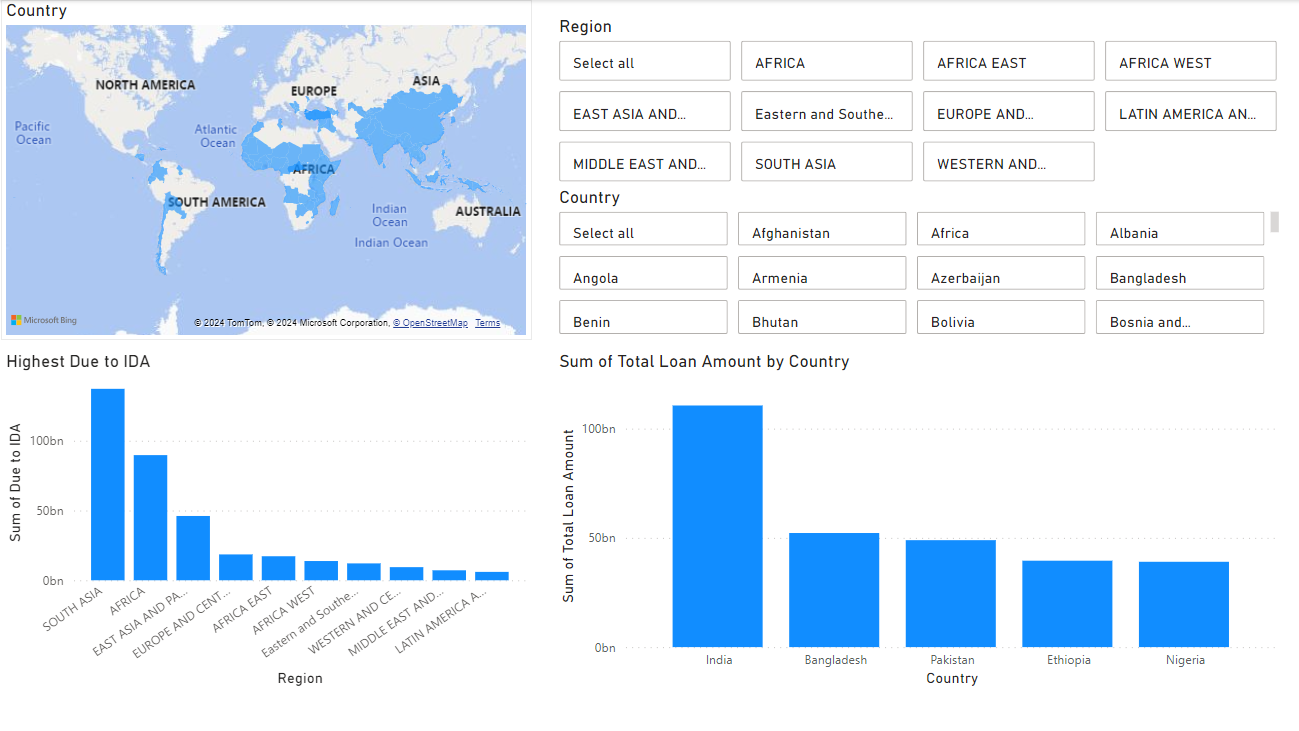

The page's visual inventory and layout, read from the dashboard file:
{"tool":"powerbi","page":{"name":"Page 1","canvas":[1280,720],"ordinal":2},"visuals":[{"type":"filledMap","fields":{"Category":["cleaned_dataset.Country"]},"box":[10.1,0,515.7,330.9],"z":0},{"type":"advancedSlicerVisual","fields":{"Values":["cleaned_dataset.Country"]},"box":[548,182,710,148],"z":1},{"type":"advancedSlicerVisual","fields":{"Values":["cleaned_dataset.Region"]},"box":[548,16,710,166],"z":2},{"type":"columnChart","title":"Highest Due to IDA","fields":{"Y":["Sum(cleaned_dataset.Due to IDA)"],"Category":["cleaned_dataset.Region"]},"box":[10,341,516,331],"z":3},{"type":"columnChart","fields":{"Y":["Sum(cleaned_dataset.Total Loan Amount)"],"Category":["cleaned_dataset.Country"]},"box":[548,341,710,331],"z":4}]}

Visuals, with their boxes in screenshot pixels (x1, y1, x2, y2), scaled from the page's 1280x720 canvas onto the 1299x731 screenshot:
filledMap - cleaned_dataset.Country: rect(10, 0, 534, 336)
advancedSlicerVisual - cleaned_dataset.Country: rect(556, 185, 1277, 335)
advancedSlicerVisual - cleaned_dataset.Region: rect(556, 16, 1277, 185)
"Highest Due to IDA" columnChart: rect(10, 346, 534, 682)
columnChart - Sum(cleaned_dataset.Total Loan Amount) x cleaned_dataset.Country: rect(556, 346, 1277, 682)
